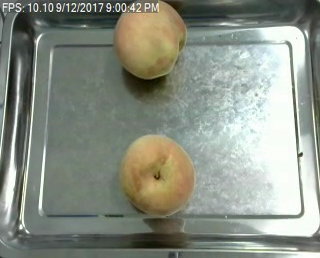Peach: (118, 133, 195, 216), (113, 0, 188, 79)
